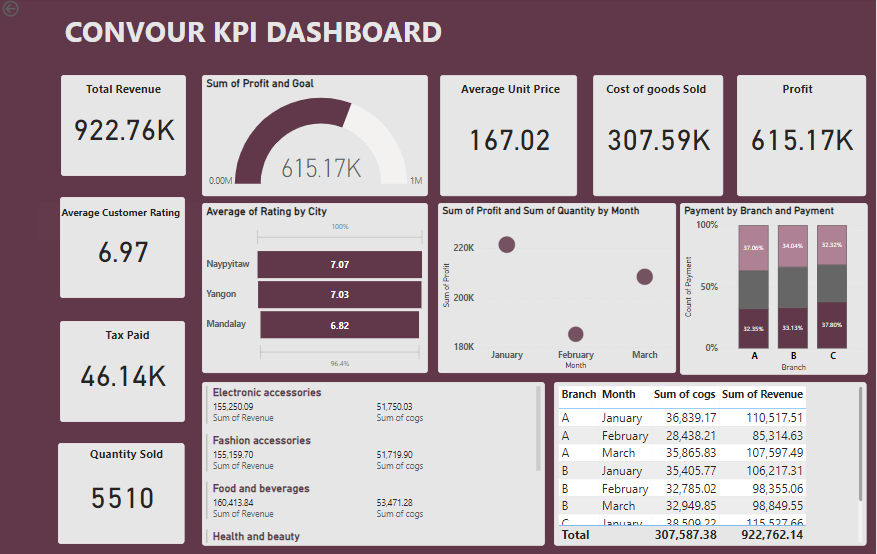

What the dashboard file says about the page in this screenshot:
{"tool":"powerbi","page":{"name":"Page 1","canvas":[1650,1050],"ordinal":0},"visuals":[{"type":"card","fields":{"Values":["Sum(Convour Work.Revenue)"]},"box":[115,145,235,190],"z":0},{"type":"card","fields":{"Values":["Sum(Convour Work.Quantity)"]},"box":[110,837.5,237.5,190],"z":1000},{"type":"card","fields":{"Values":["Convour Work.Average Unit price"]},"box":[827.5,145,257.5,227.5],"z":2000},{"type":"card","fields":{"Values":["Sum(Convour Work.cogs)"]},"box":[1115,145,245,227.5],"z":3000},{"type":"card","fields":{"Values":["Avg(Convour Work.Rating)"]},"box":[112.5,375,235,190],"z":4000},{"type":"card","fields":{"Values":["Sum(Convour Work.TAX 5%)"]},"box":[112.5,607.5,235,190],"z":5000},{"type":"card","fields":{"Values":["Sum(Convour Work.Profit)"]},"box":[1387.5,145,242.5,227.5],"z":6000},{"type":"gauge","fields":{"Y":["Sum(Convour Work.Profit)"],"MaxValue":["Convour Work.Goal"]},"box":[380,145,425,227.5],"z":7000},{"type":"multiRowCard","fields":{"Values":["Convour Work.Product line","Sum(Convour Work.Revenue)","Sum(Convour Work.cogs)"]},"box":[380,722.5,645,307.5],"z":8000},{"type":"tableEx","fields":{"Values":["Convour Work.Branch","Convour Work.Date.Variation.Date Hierarchy.Month","Sum(Convour Work.cogs)","Sum(Convour Work.Revenue)"]},"box":[1042.5,722.5,587.5,307.5],"z":9000},{"type":"actionButton","box":[0,0,100,40],"z":10000},{"type":"scatterChart","fields":{"X":["Convour Work.Date.Variation.Date Hierarchy.Month"],"Y":["Sum(Convour Work.Profit)"],"Size":["Sum(Convour Work.Quantity)"]},"box":[825,385,447.5,320],"z":11000},{"type":"hundredPercentStackedColumnChart","title":"Payment by Branch and Payment","fields":{"Y":["CountNonNull(Convour Work.Payment)"],"Category":["Convour Work.Branch"],"Series":["Convour Work.Payment"]},"box":[1280,385,352.5,322.5],"z":12000},{"type":"funnel","fields":{"Y":["Avg(Convour Work.Rating)"],"Category":["Convour Work.City"]},"box":[380,385,425,320],"z":13000},{"type":"textbox","box":[115,150,235,65],"z":14000},{"type":"textbox","box":[72.5,385,307.5,70],"z":15000},{"type":"textbox","box":[90,612.5,300,95],"z":16000},{"type":"textbox","box":[87.5,837.5,300,160],"z":17000},{"type":"textbox","box":[842.5,150,235,65],"z":18000},{"type":"textbox","box":[1117.5,150,235,65],"z":19000},{"type":"textbox","box":[1385,150,237.5,65],"z":20000},{"type":"textbox","box":[117.5,20,950,105],"z":21000}]}

Visuals, with their boxes in screenshot pixels (x1, y1, x2, y2), scaled from the page's 1650x1050 canvas onto the 877x554 screenshot:
card - Sum(Convour Work.Revenue): 61, 77, 186, 177
card - Sum(Convour Work.Quantity): 58, 442, 185, 542
card - Convour Work.Average Unit price: 440, 77, 577, 197
card - Sum(Convour Work.cogs): 593, 77, 723, 197
card - Avg(Convour Work.Rating): 60, 198, 185, 298
card - Sum(Convour Work.TAX 5%): 60, 321, 185, 421
card - Sum(Convour Work.Profit): 737, 77, 866, 197
gauge - Sum(Convour Work.Profit) x Convour Work.Goal: 202, 77, 428, 197
multiRowCard - Convour Work.Product line x Sum(Convour Work.Revenue): 202, 381, 545, 543
tableEx - Convour Work.Branch x Convour Work.Date.Variation.Date Hierarchy.Month: 554, 381, 866, 543
actionButton: 0, 0, 53, 21
scatterChart - Convour Work.Date.Variation.Date Hierarchy.Month x Sum(Convour Work.Profit): 438, 203, 676, 372
"Payment by Branch and Payment" hundredPercentStackedColumnChart: 680, 203, 868, 373
funnel - Avg(Convour Work.Rating) x Convour Work.City: 202, 203, 428, 372
textbox: 61, 79, 186, 113
textbox: 39, 203, 202, 240
textbox: 48, 323, 207, 373
textbox: 47, 442, 206, 526
textbox: 448, 79, 573, 113
textbox: 594, 79, 719, 113
textbox: 736, 79, 862, 113
textbox: 62, 11, 567, 66
